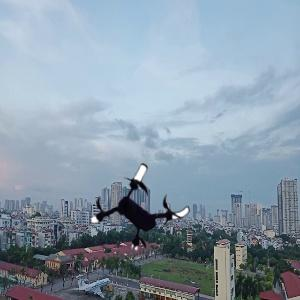drone: (91, 156, 193, 258)
